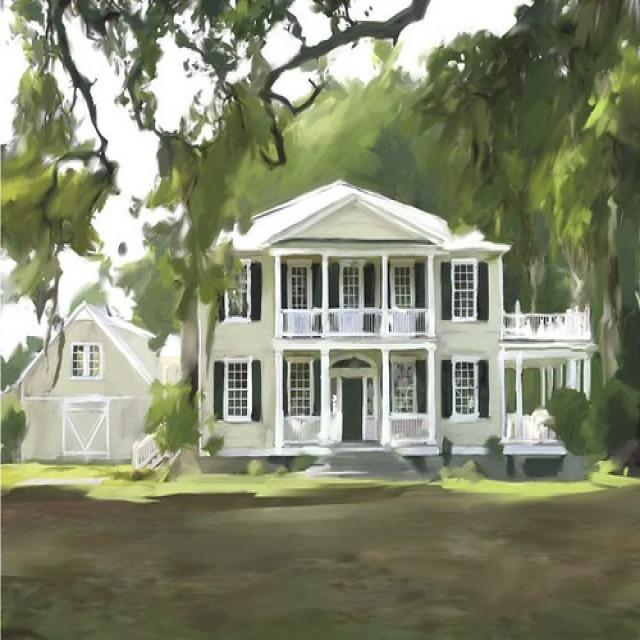Normal_building: (192, 182, 594, 464), (13, 298, 180, 458)
